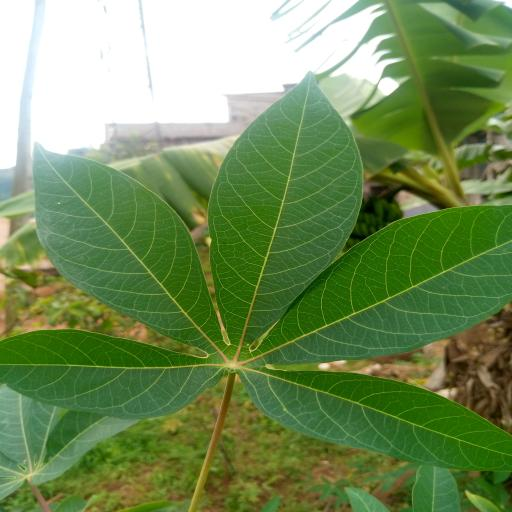Cassava_Healthy: (0, 72, 512, 474)
